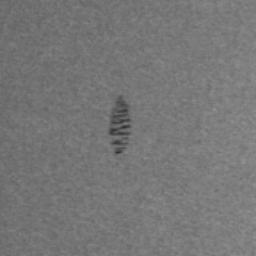Secondary rust skin: (107, 95, 132, 155)
